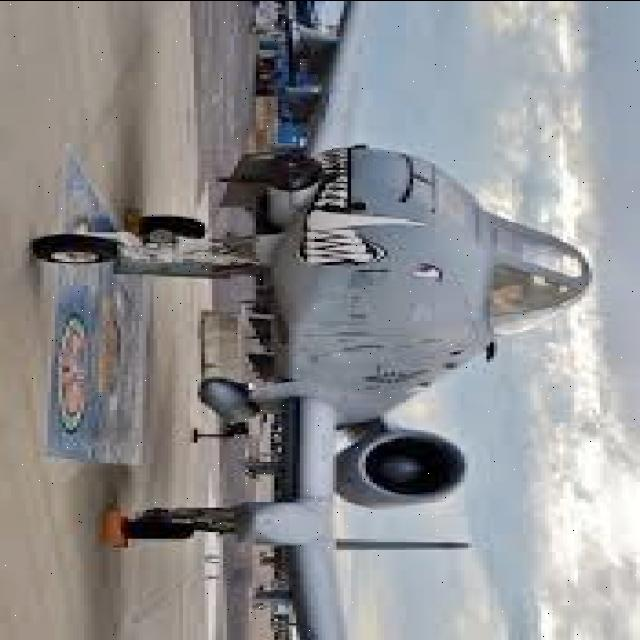A10: (12, 71, 610, 633)
